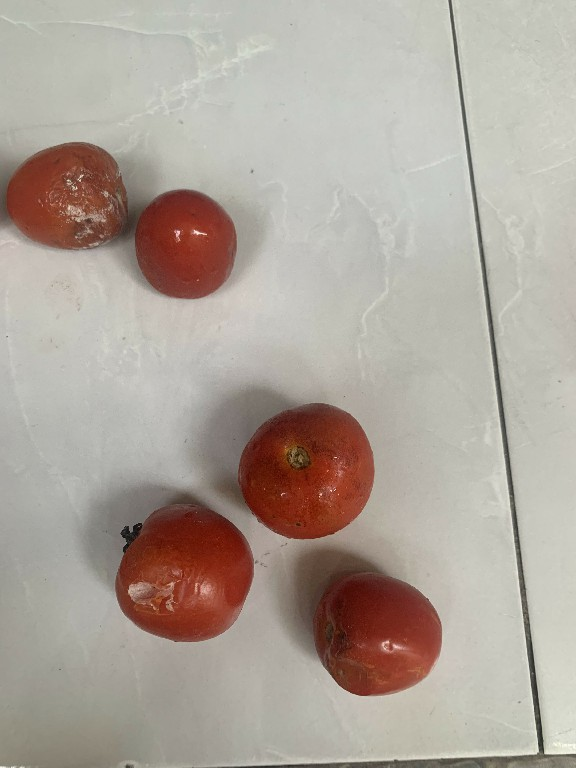NG: (225, 397, 384, 545), (305, 564, 455, 708), (109, 497, 255, 642), (1, 134, 129, 275)
OK: (137, 175, 242, 319)
